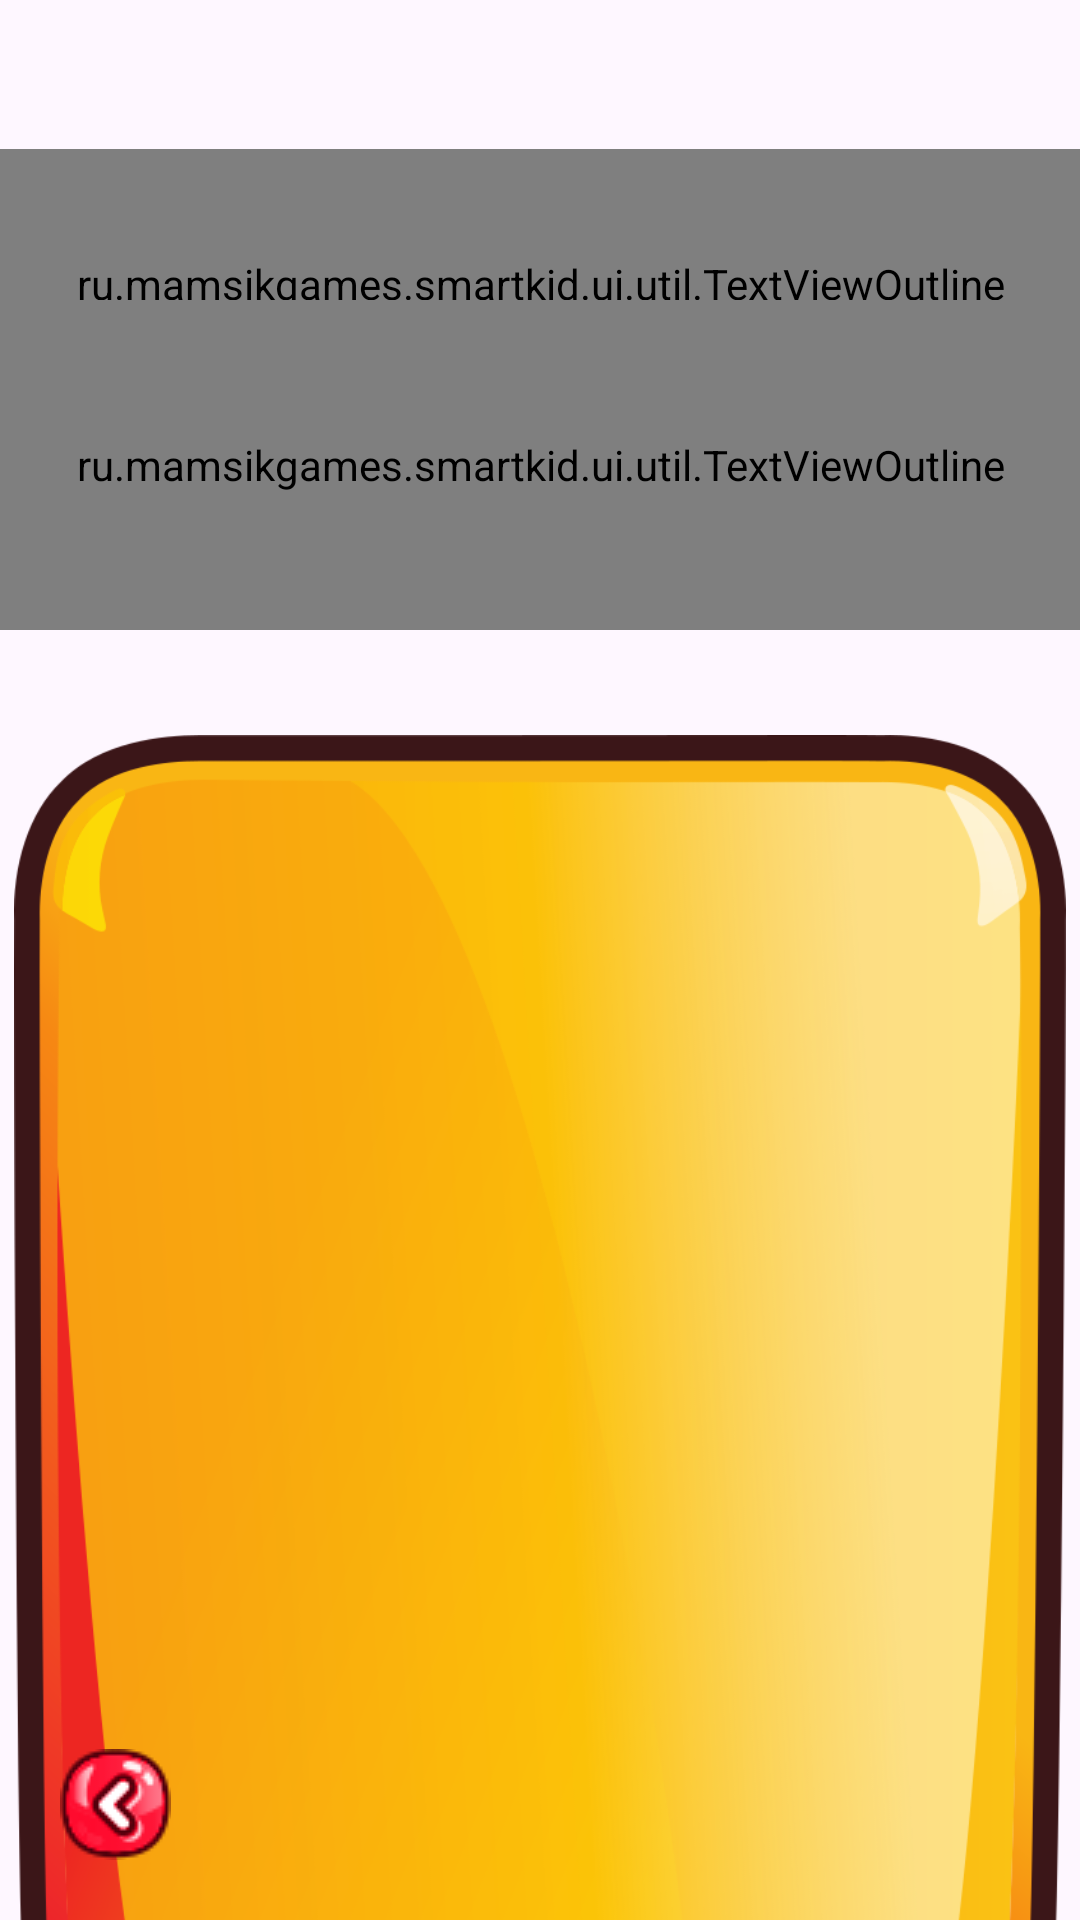

Icons on this 1080w x 1920h Android screen, each with the point to tap as (x,y):
back: (115,1804)
